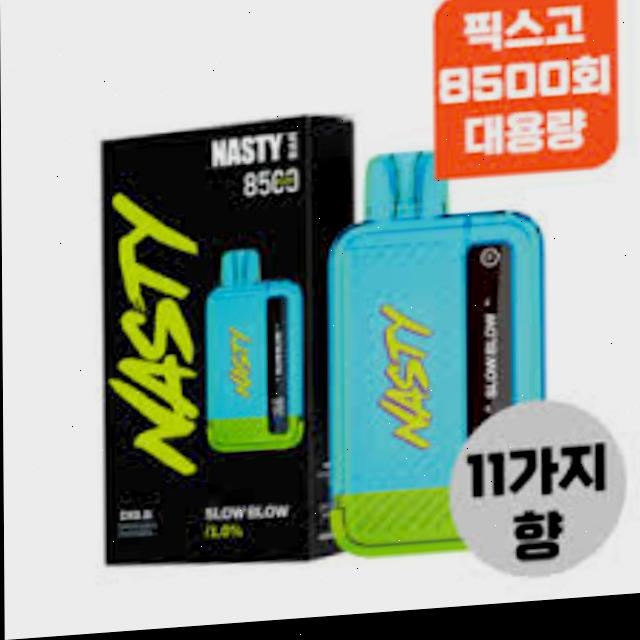vape: (333, 147, 550, 568), (205, 246, 306, 460)
